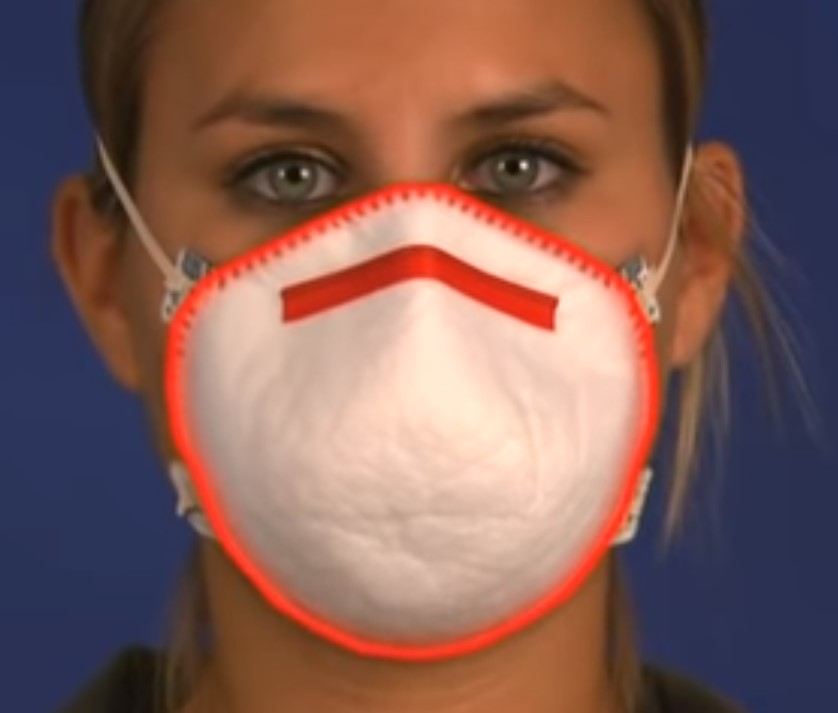face_with_mask: (51, 7, 743, 661)
